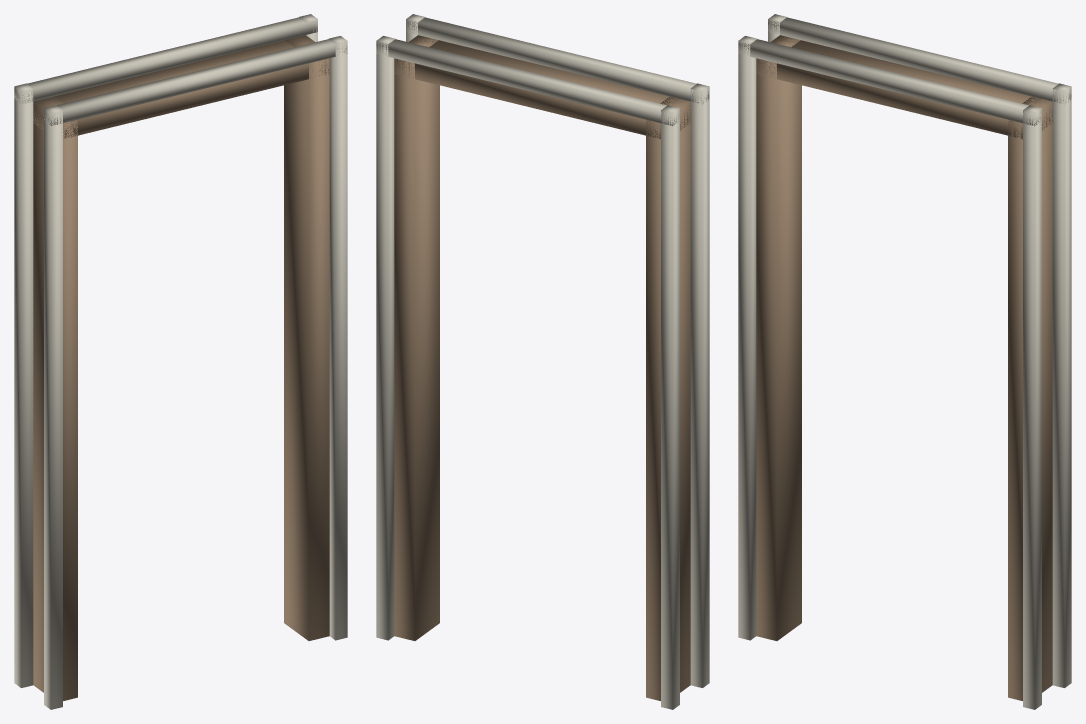
File: doorway_painted_trim_w86_h200_d16.glb
The picture shows the model from 3 angles, left to right: view 1: azimuth 30°, elevation 25°; view 2: azimuth 150°, elevation 25°; view 3: azimuth 330°, elevation 25°; orthographic projection.
Visible parts, largest first — view 1: world; view 2: world; view 3: world.
Part boxes in pixels (x1,y1,x2,y2): world: (14,14,347,709); world: (376,14,709,709); world: (738,14,1071,709).
Size of the model in its own units: 1.1 by 2.12 by 0.2365.
